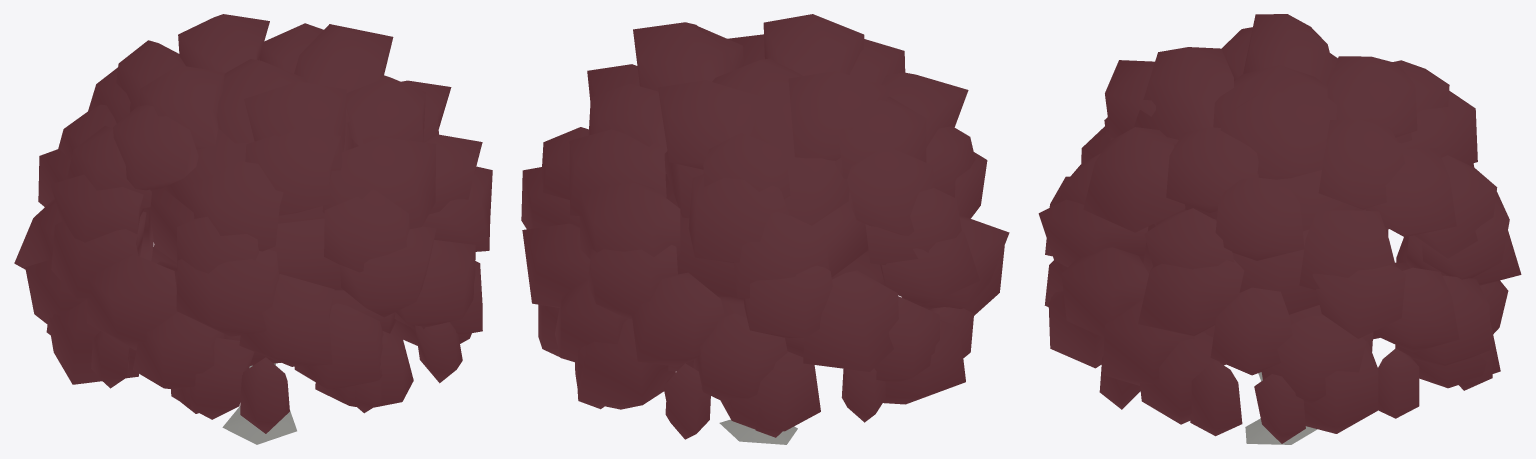
File: Blender_CopperBeech_2_Far.glb
3 renders of one model, left to right at view 1: azimuth 30°, elevation 25°; view 2: azimuth 150°, elevation 25°; view 3: azimuth 270°, elevation 25°, orthographic. The views are drawn at different scales.
Parts seen in each view (by area): view 1: Blender_CopperBeech_2_Far; view 2: Blender_CopperBeech_2_Far; view 3: Blender_CopperBeech_2_Far.
Part boxes in pixels (x1,y1,x2,y2): Blender_CopperBeech_2_Far: (14, 14, 492, 444); Blender_CopperBeech_2_Far: (521, 14, 1009, 444); Blender_CopperBeech_2_Far: (1038, 14, 1521, 444).
Size of the model in its own units: 23.47 by 21.32 by 24.06.
